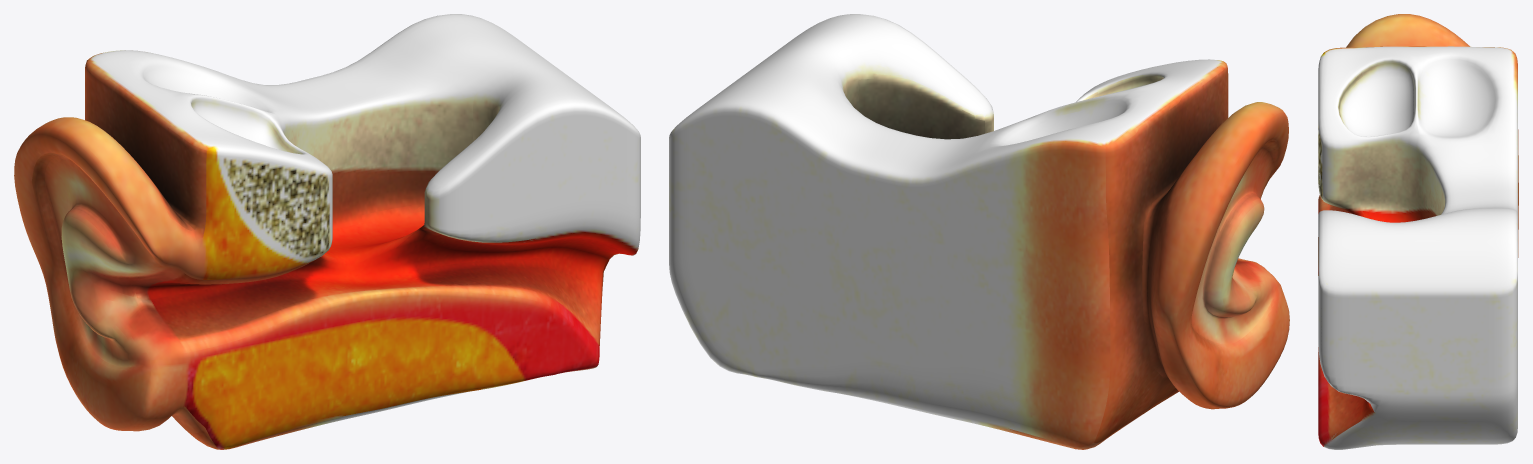
Rendered from oreja.FBX.
The picture shows the model from 3 angles, left to right: view 1: azimuth 30°, elevation 25°; view 2: azimuth 150°, elevation 25°; view 3: azimuth 270°, elevation 25°; orthographic projection. The views are drawn at different scales.
Visible parts, largest first — view 1: Box005; view 2: Box005; view 3: Box005.
Boxes of the visible parts, x1,y1,x2,y2 form: Box005: (14, 14, 640, 449); Box005: (669, 14, 1289, 449); Box005: (1318, 14, 1518, 449).
Size of the model in its own units: 4.78 by 1.98 by 2.77.
1 material, 1 textured.
